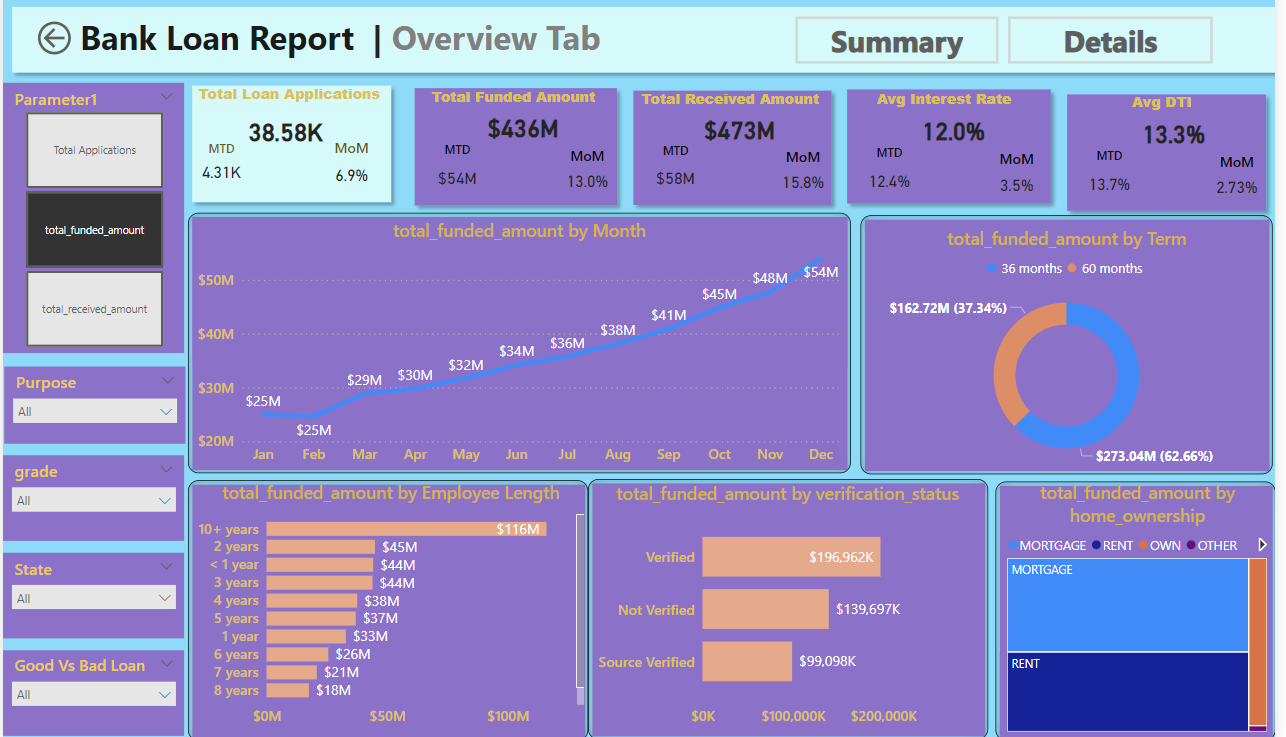

Layout of this report page (visuals, bound fields, positions):
{"tool":"powerbi","page":{"name":"Overview","canvas":[1450,850],"ordinal":1},"visuals":[{"type":"shape","box":[1.9,5.6,1497.6,92.8],"z":0},{"type":"shape","box":[206,96,244.6,150.6],"z":0,"group":"g1"},{"type":"shape","box":[460,98.4,248.6,151.6],"z":0,"group":"g2"},{"type":"shape","box":[953.3,99.5,250,148],"z":0,"group":"g4"},{"type":"shape","box":[708.6,101.4,243.7,148.2],"z":0,"group":"g3"},{"type":"shape","box":[1203.7,105.2,244.6,150.7],"z":0,"group":"g5"},{"type":"textbox","box":[82.6,18.8,668.5,63.8],"z":1000},{"type":"card","fields":{"Values":["Table.total_funded_amount"]},"box":[536.5,128.7,111.8,46.2],"z":1000,"group":"g2"},{"type":"card","fields":{"Values":["Table.total_received_amount"]},"box":[783.6,131,109.6,45.2],"z":1000,"group":"g3"},{"type":"card","fields":{"Values":["Table.Avg_interest_rate"]},"box":[1028.7,131,109.8,47.3],"z":1000,"group":"g4"},{"type":"card","fields":{"Values":["Table.Total Applications"]},"box":[261.7,135,120.6,44.5],"z":1000,"group":"g1"},{"type":"card","fields":{"Values":["Table.Avg DTI"]},"box":[1279,135.3,110,45.9],"z":1000,"group":"g5"},{"type":"group","id":"g1","title":"Group 1","box":[206,96,244.6,150.6],"z":2000},{"type":"textbox","box":[211.1,98.1,227.8,36.2],"z":2000,"group":"g1"},{"type":"textbox","box":[465.1,100.5,231.4,36.4],"z":2000,"group":"g2"},{"type":"textbox","box":[958.6,102.2,227.3,37.3],"z":2000,"group":"g4"},{"type":"textbox","box":[713.6,103.5,226.9,35.6],"z":2000,"group":"g3"},{"type":"textbox","box":[1208.8,107.3,227.8,36.2],"z":2000,"group":"g5"},{"type":"group","id":"g2","title":"Group 1","box":[460,98.4,248,151.5],"z":3000},{"type":"card","title":"MTD","fields":{"Values":["Table.MTD"]},"box":[217.3,167.4,62,56.3],"z":3000,"group":"g1"},{"type":"card","title":"MTD","fields":{"Values":["Table.MTD_funded_amt"]},"box":[485.7,168.1,63.9,66.8],"z":3000,"group":"g2"},{"type":"card","title":"MTD","fields":{"Values":["Table.MTD_received_amt"]},"box":[733.8,169.5,62.6,65.3],"z":3000,"group":"g3"},{"type":"card","title":"MTD","fields":{"Values":["Table.MTD_interest_rate"]},"box":[978.8,171.3,62.7,68.4],"z":3000,"group":"g4"},{"type":"card","title":"MTD","fields":{"Values":["Table.MTD_DTI"]},"box":[1229,174.5,62.9,66.4],"z":3000,"group":"g5"},{"type":"group","id":"g3","title":"Group 1","box":[708.6,101.4,244.1,150.2],"z":4000},{"type":"card","title":"MoM","fields":{"Values":["Table.Months_over_month"]},"box":[353.7,164.2,85.2,64.4],"z":4000,"group":"g1"},{"type":"card","title":"MoM","fields":{"Values":["Table.MoM_Funded_amt"]},"box":[629.6,172.5,72.6,61.6],"z":4000,"group":"g2"},{"type":"card","title":"MoM","fields":{"Values":["Table.MoM_Received_amt"]},"box":[874.9,173.8,71.2,60.2],"z":4000,"group":"g3"},{"type":"card","title":"MoM","fields":{"Values":["Table.MoM_Interest_rate"]},"box":[1120.1,175.8,71.3,63.1],"z":4000,"group":"g4"},{"type":"card","title":"MoM","fields":{"Values":["Table.MoM_DTI"]},"box":[1370.6,178.9,71.4,61.3],"z":4000,"group":"g5"},{"type":"group","id":"g4","title":"Group 1","box":[953.3,99.5,249.7,148.3],"z":5000},{"type":"group","id":"g5","title":"Group 1","box":[1203.7,105.2,244.6,150.7],"z":6000},{"type":"slicer","fields":{"Values":["loan.purpose"]},"box":[1.9,424.4,206.6,88.3],"z":7000},{"type":"slicer","fields":{"Values":["loan.grade"]},"box":[0,525.8,206.6,97.6],"z":8000},{"type":"slicer","fields":{"Values":["loan.address_state"]},"box":[0,636.6,206.6,97.6],"z":9000},{"type":"slicer","fields":{"Values":["loan.Good vs Bad Loan"]},"box":[0,747.4,206.6,97.6],"z":10000},{"type":"shape","box":[210.3,249.7,754.9,296.7],"z":11000},{"type":"lineChart","fields":{"Y":["Table.Total_funded_amount"],"Category":["Calender.Month_name"]},"box":[215.9,255.4,743.6,291.1],"z":12000},{"type":"slicer","fields":{"Values":["Parameter1.Parameter1"]},"box":[0,101.4,206.6,308],"z":13000},{"type":"shape","box":[976.5,251.6,469.5,294.8],"z":14000},{"type":"donutChart","fields":{"Y":["Table.Total_funded_amount"],"Category":["loan.term"]},"box":[982.1,264.8,458.2,281.7],"z":15000},{"type":"shape","box":[210.3,554,456.3,296.7],"z":16000},{"type":"barChart","fields":{"Y":["Table.Total_funded_amount"],"Category":["loan.emp_length"]},"box":[215.9,554,450.7,291.1],"z":17000},{"type":"shape","box":[1130.4,555.8,319.2,294.8],"z":18000},{"type":"treemap","fields":{"Values":["Table.Total_funded_amount"],"Group":["loan.home_ownership"]},"box":[1139.8,554,306.1,291.1],"z":19000},{"type":"actionButton","title":"Overview Button","box":[903.5,25.9,231.4,53.9],"z":20000},{"type":"actionButton","title":"Details Button","box":[1144.8,25.9,233.4,53.9],"z":21000},{"type":"actionButton","box":[33.8,18.8,48.8,63.8],"z":22000},{"type":"shape","box":[666.6,552.1,456.3,296.7],"z":23000},{"type":"clusteredBarChart","fields":{"Y":["Table.Total_funded_amount"],"Category":["loan.verification_status"]},"box":[672.3,555.8,443.2,289.2],"z":24000}]}

Visuals, with their boxes in screenshot pixels (x1, y1, x2, y2), scaled from the page's 1450x850 canvas onto the 1286x737 screenshot:
shape: select_region(2, 5, 1285, 85)
shape: select_region(183, 83, 400, 214)
shape: select_region(408, 85, 628, 217)
shape: select_region(845, 86, 1067, 215)
shape: select_region(628, 88, 845, 216)
shape: select_region(1068, 91, 1284, 222)
textbox: select_region(73, 16, 666, 72)
card - Table.total_funded_amount: select_region(476, 112, 575, 152)
card - Table.total_received_amount: select_region(695, 114, 792, 153)
card - Table.Avg_interest_rate: select_region(912, 114, 1010, 155)
card - Table.Total Applications: select_region(232, 117, 339, 156)
card - Table.Avg DTI: select_region(1134, 117, 1232, 157)
"Group 1" group: select_region(183, 83, 400, 214)
textbox: select_region(187, 85, 389, 116)
textbox: select_region(412, 87, 618, 119)
textbox: select_region(850, 89, 1052, 121)
textbox: select_region(633, 90, 834, 121)
textbox: select_region(1072, 93, 1274, 124)
"Group 1" group: select_region(408, 85, 628, 217)
"MTD" card: select_region(193, 145, 248, 194)
"MTD" card: select_region(431, 146, 487, 204)
"MTD" card: select_region(651, 147, 706, 204)
"MTD" card: select_region(868, 149, 924, 208)
"MTD" card: select_region(1090, 151, 1146, 209)
"Group 1" group: select_region(628, 88, 845, 218)
"MoM" card: select_region(314, 142, 389, 198)
"MoM" card: select_region(558, 150, 623, 203)
"MoM" card: select_region(776, 151, 839, 203)
"MoM" card: select_region(993, 152, 1057, 207)
"MoM" card: select_region(1216, 155, 1279, 208)
"Group 1" group: select_region(845, 86, 1067, 215)
"Group 1" group: select_region(1068, 91, 1284, 222)
slicer - loan.purpose: select_region(2, 368, 185, 445)
slicer - loan.grade: select_region(0, 456, 183, 541)
slicer - loan.address_state: select_region(0, 552, 183, 637)
slicer - loan.Good vs Bad Loan: select_region(0, 648, 183, 733)
shape: select_region(187, 217, 856, 474)
lineChart - Table.Total_funded_amount x Calender.Month_name: select_region(191, 221, 851, 474)
slicer - Parameter1.Parameter1: select_region(0, 88, 183, 355)
shape: select_region(866, 218, 1282, 474)
donutChart - Table.Total_funded_amount x loan.term: select_region(871, 230, 1277, 474)
shape: select_region(187, 480, 591, 736)
barChart - Table.Total_funded_amount x loan.emp_length: select_region(191, 480, 591, 733)
shape: select_region(1003, 482, 1285, 736)
treemap - Table.Total_funded_amount x loan.home_ownership: select_region(1011, 480, 1282, 733)
"Overview Button" actionButton: select_region(801, 22, 1007, 69)
"Details Button" actionButton: select_region(1015, 22, 1222, 69)
actionButton: select_region(30, 16, 73, 72)
shape: select_region(591, 479, 996, 736)
clusteredBarChart - Table.Total_funded_amount x loan.verification_status: select_region(596, 482, 989, 733)
